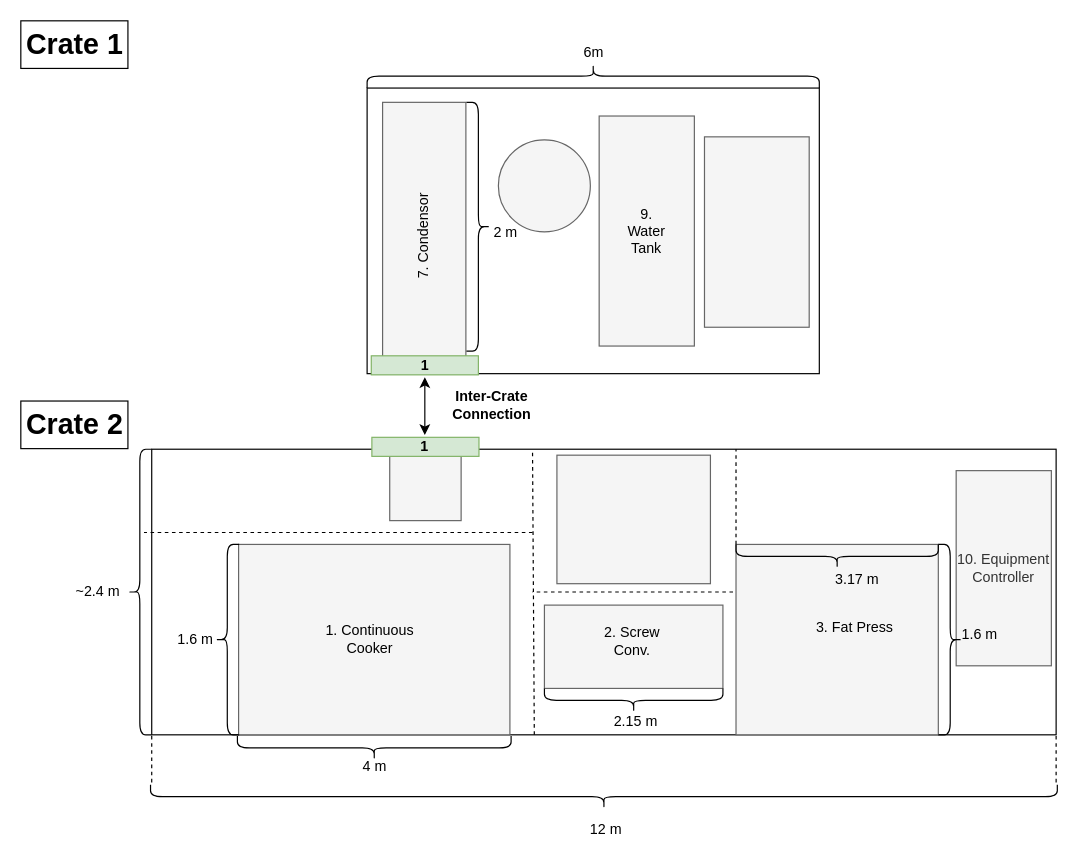
Some shapes in this 1078 by 863 pixel diagram are drawn without their labels. The shapes that lost their labels are listed below. From the top down, each one's centre as x and y in pixels, then its label:
At (543,185): "8. Cooling Tower".
At (756,231): "5. Electricity Equipment".
At (425,484): "6. Dust Collector".
At (633,519): "4. Vacuum Pump".
